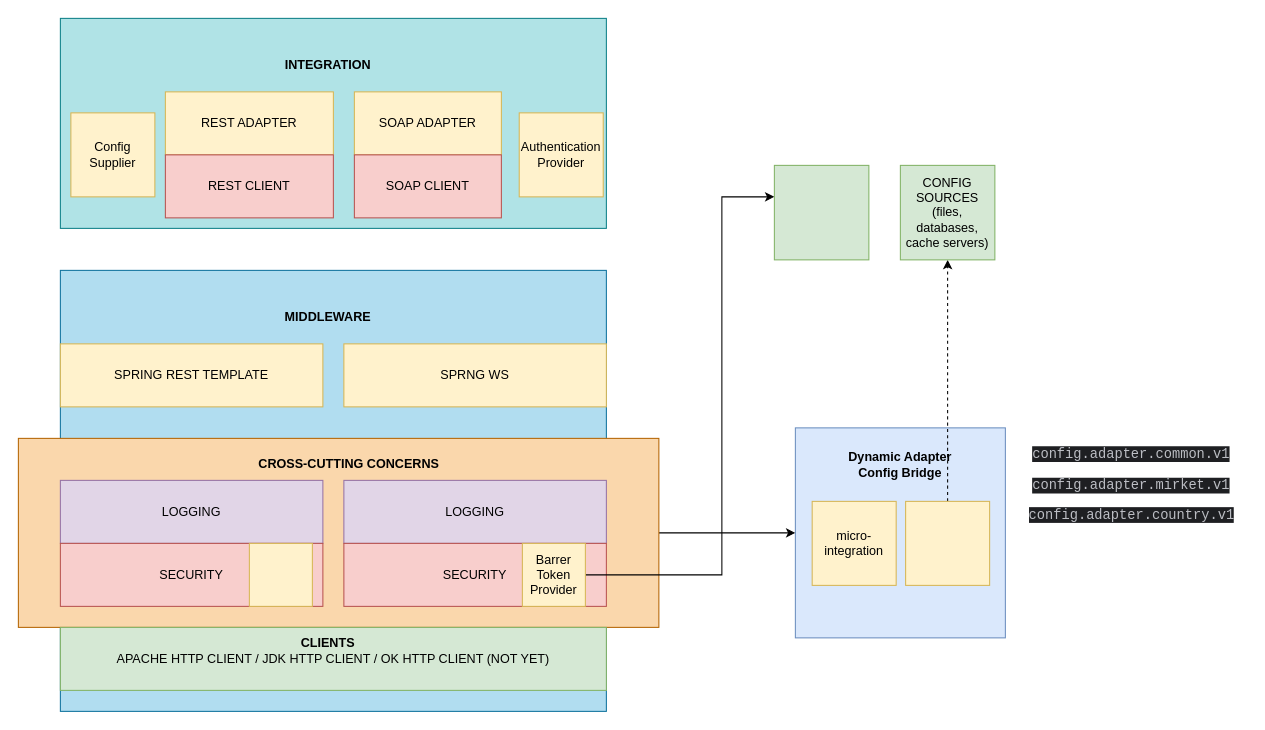
Image size: 1265x730. Some labels were removed from this diagram. Each missing label, with the centre of its shape:
"Basic Authentication Provider" goes at point (280, 574).
"config-manager" goes at point (947, 542).
"EXTERNAL RESOURCE AUTH SERVER" goes at point (821, 212).
